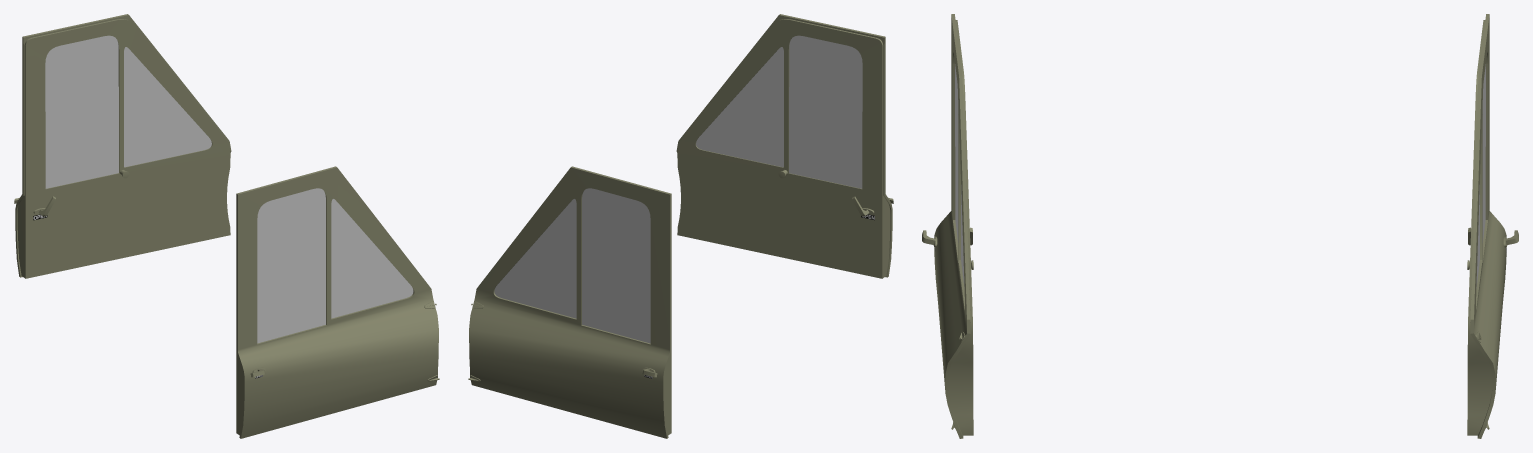
Rendered from helicopter_uh_doors_a.fbx.
3 views of the same model, side by side, from view 1: azimuth 30°, elevation 25°; view 2: azimuth 150°, elevation 25°; view 3: azimuth 270°, elevation 25° (orthographic). The views are drawn at different scales.
Visible parts, largest first — view 1: helicopter_uh_doors_a; view 2: helicopter_uh_doors_a; view 3: helicopter_uh_doors_a.
Boxes of the visible parts, x1,y1,x2,y2 form: helicopter_uh_doors_a: [14, 14, 439, 438]; helicopter_uh_doors_a: [468, 14, 893, 438]; helicopter_uh_doors_a: [922, 14, 1518, 438].
Size of the model in its own units: 117 by 134 by 240.
